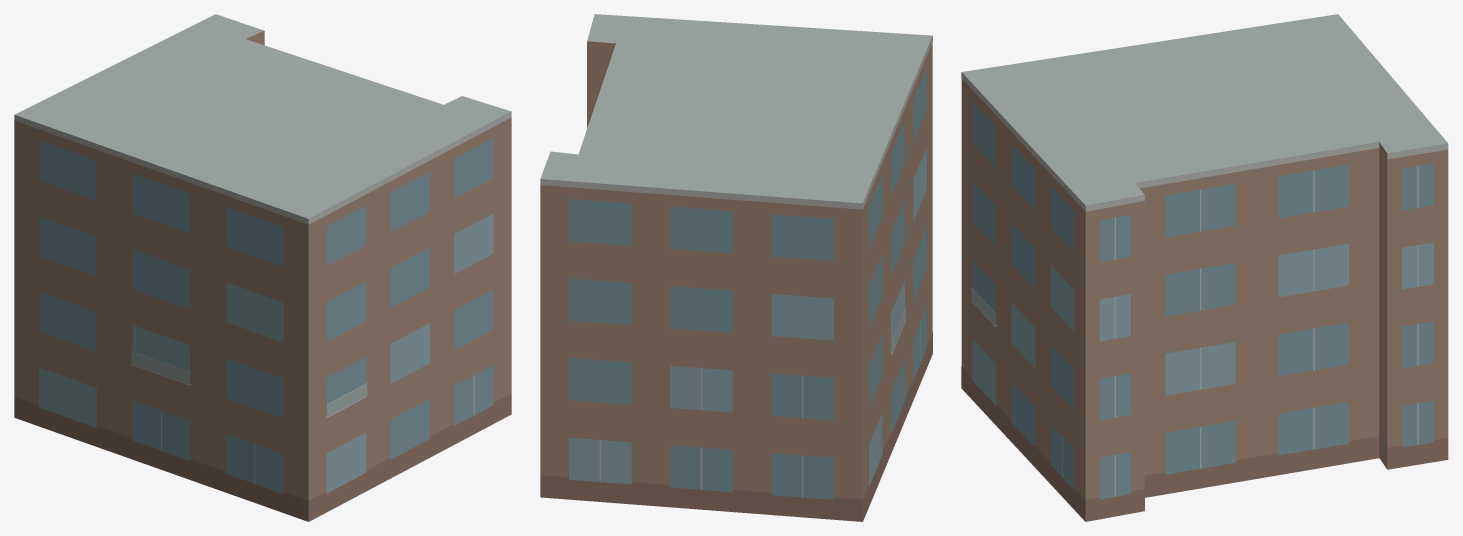
Rendered from survey-upis-33021819.glb.
3 views of the same model, side by side, from view 1: azimuth 30°, elevation 25°; view 2: azimuth 150°, elevation 25°; view 3: azimuth 270°, elevation 25° (orthographic). The views are drawn at different scales.
Visible parts, largest first — view 1: survey-upis-33021819.tmp; view 2: survey-upis-33021819.tmp; view 3: survey-upis-33021819.tmp.
Boxes of the visible parts, <box> form: survey-upis-33021819.tmp: <box>14,14,511,521</box>; survey-upis-33021819.tmp: <box>540,14,932,521</box>; survey-upis-33021819.tmp: <box>961,14,1448,521</box>.
Bounding box in the file's own units: 16.48 × 12.68 × 17.7.
